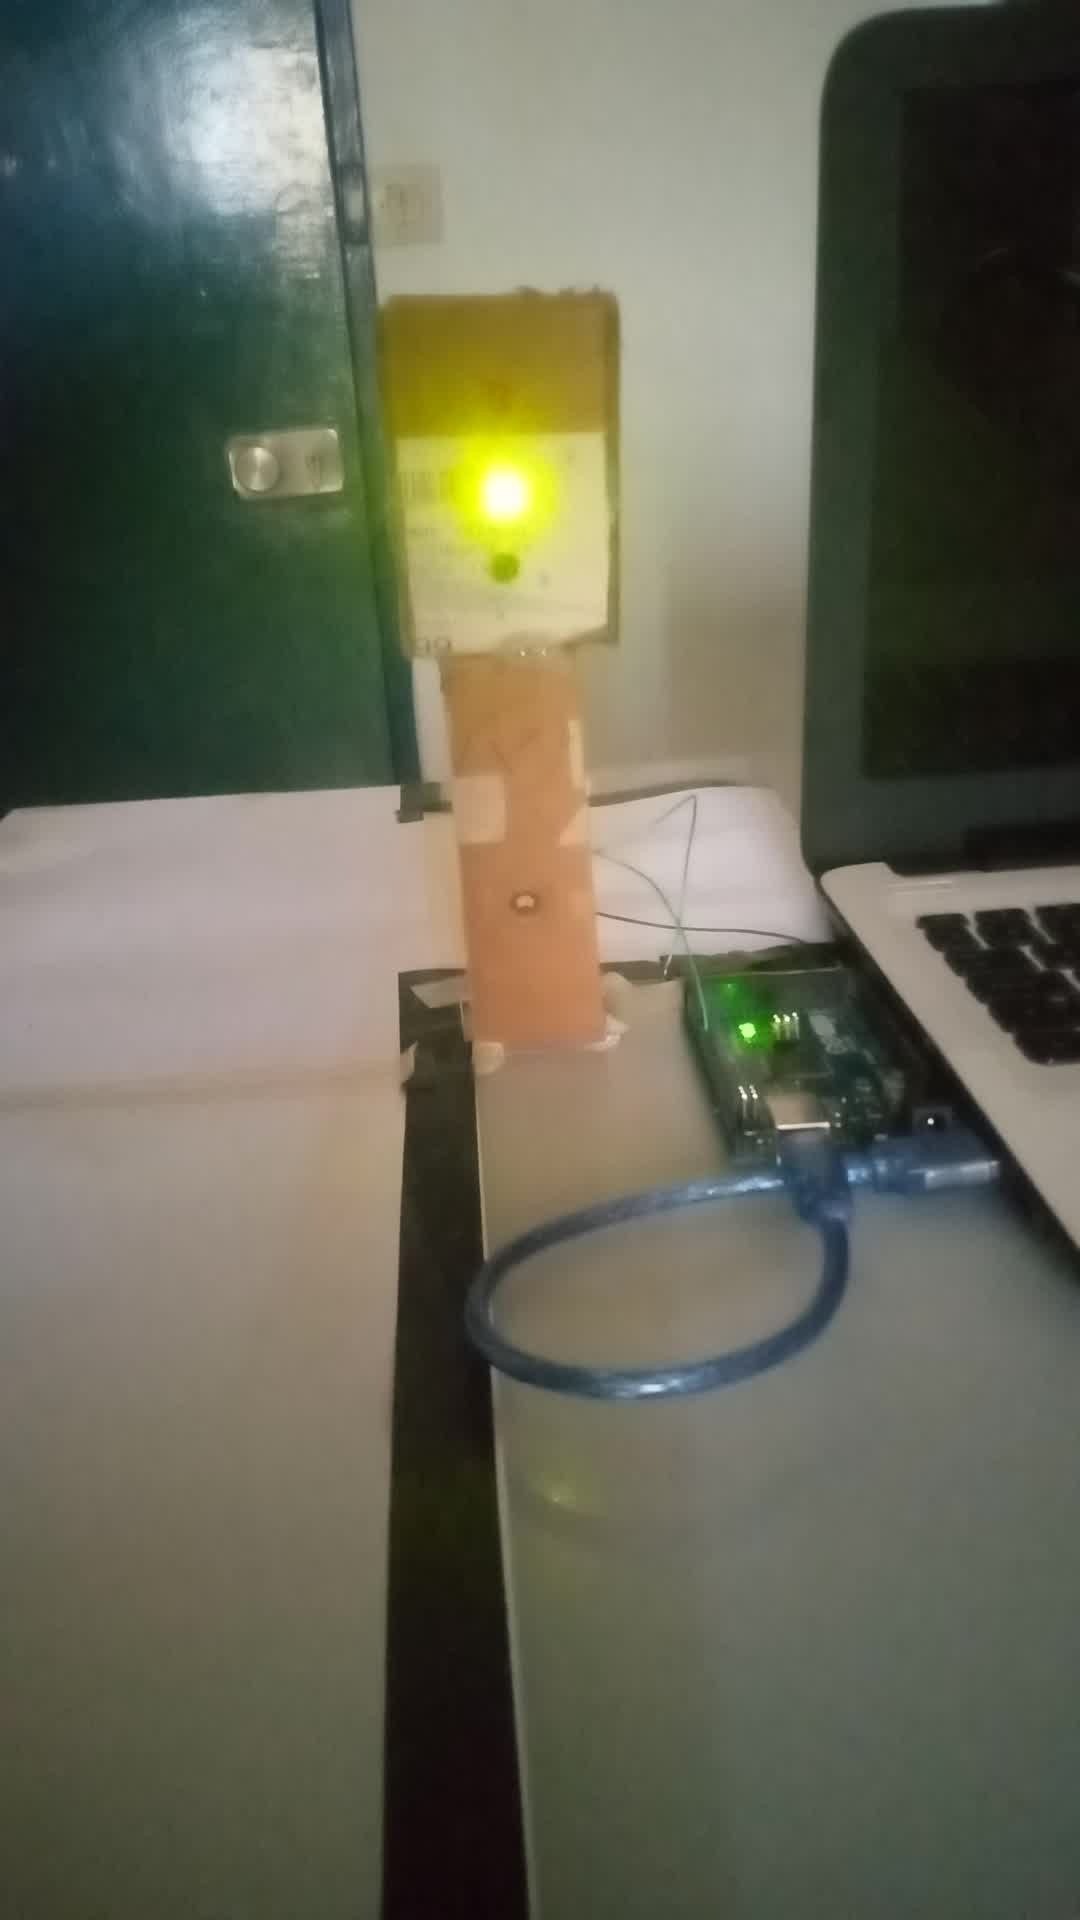yellow: (384, 303, 618, 646)
